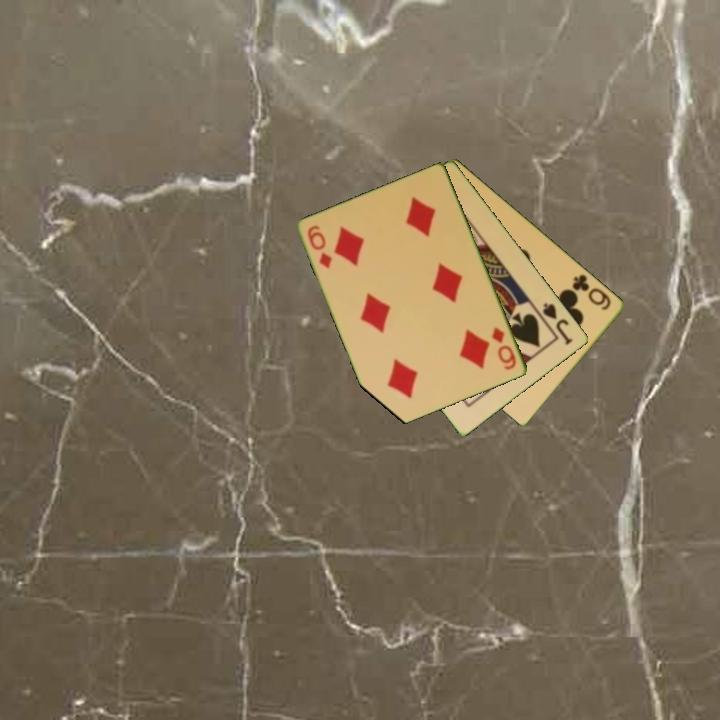6c: (569, 271, 614, 313)
6d: (304, 222, 335, 272), (488, 324, 519, 373)
Js: (539, 299, 576, 348)
